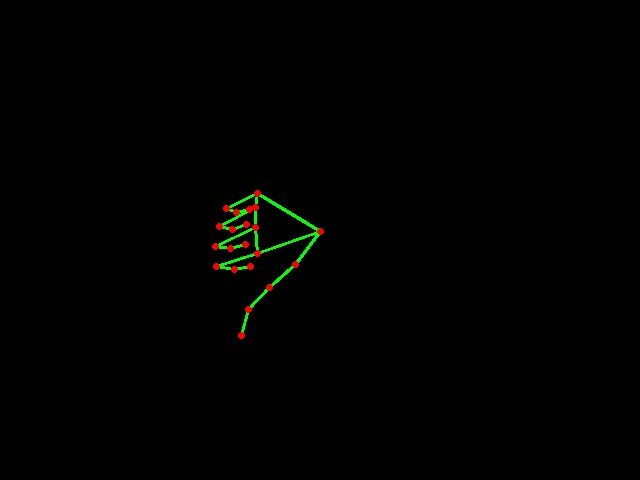slow: (203, 184, 335, 355)
